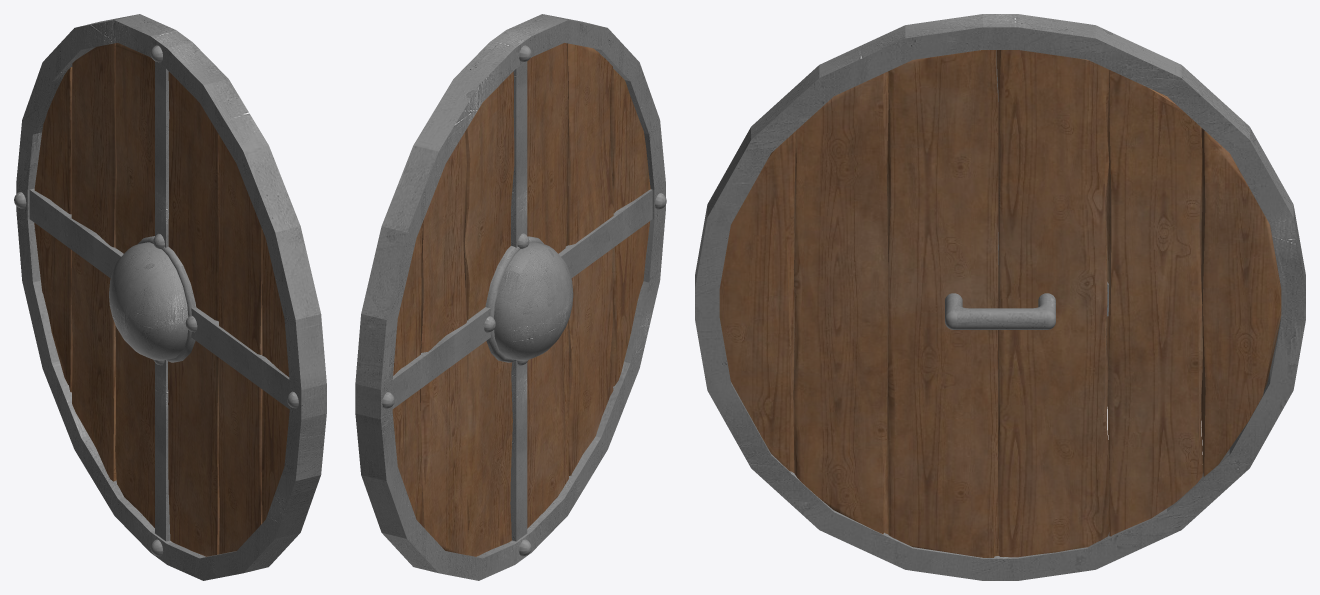
The model's file is Low_poly_Viking_shield.glb.
3 views of the same model, side by side, from view 1: azimuth 30°, elevation 25°; view 2: azimuth 150°, elevation 25°; view 3: azimuth 270°, elevation 25° (orthographic). The views are drawn at different scales.
Visible parts, largest first — view 1: defaultMaterial (×3); view 2: defaultMaterial (×3); view 3: defaultMaterial (×2).
Part boxes in pixels (x1=…): defaultMaterial (×3): x1=14, y1=14, x2=326, y2=580; defaultMaterial (×3): x1=355, y1=14, x2=666, y2=580; defaultMaterial (×2): x1=695, y1=14, x2=1305, y2=580.
Size of the model in its own units: 6.09 by 29.52 by 29.52.
3 materials, 3 textured.
